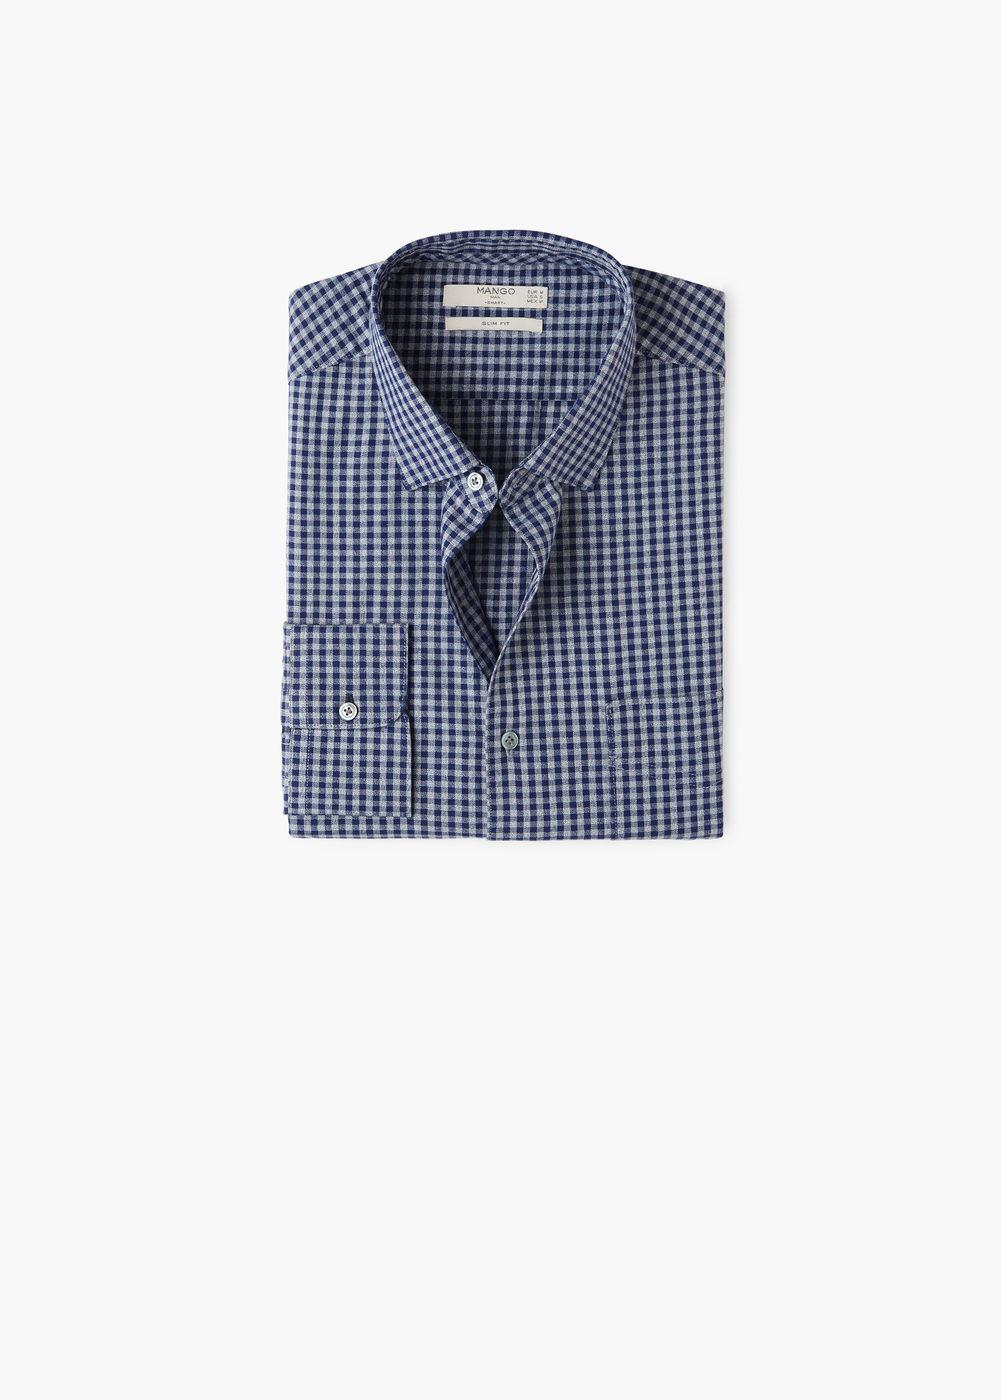teeshirt: (255, 215, 778, 904)
